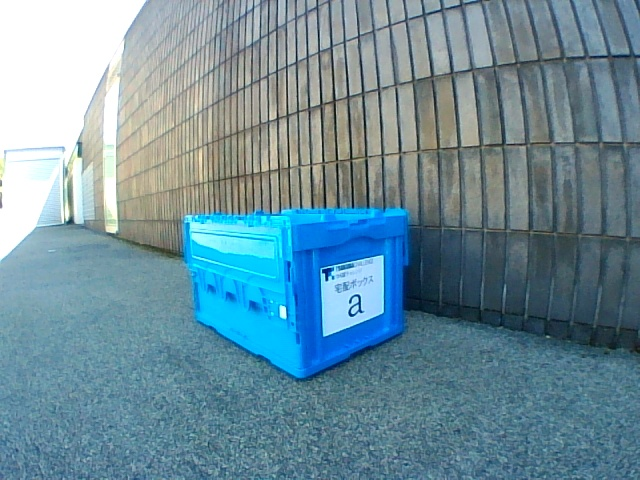blue_box: (184, 208, 407, 378)
tag_a: (336, 276, 373, 317)
